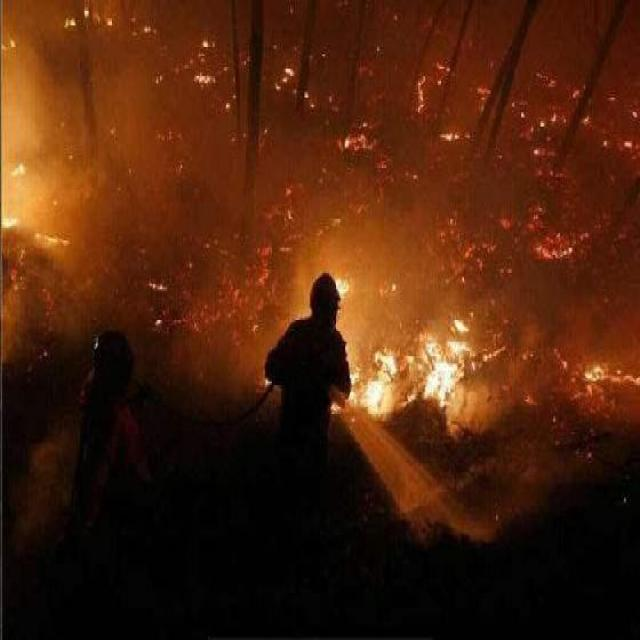fire: (11, 27, 628, 418)
